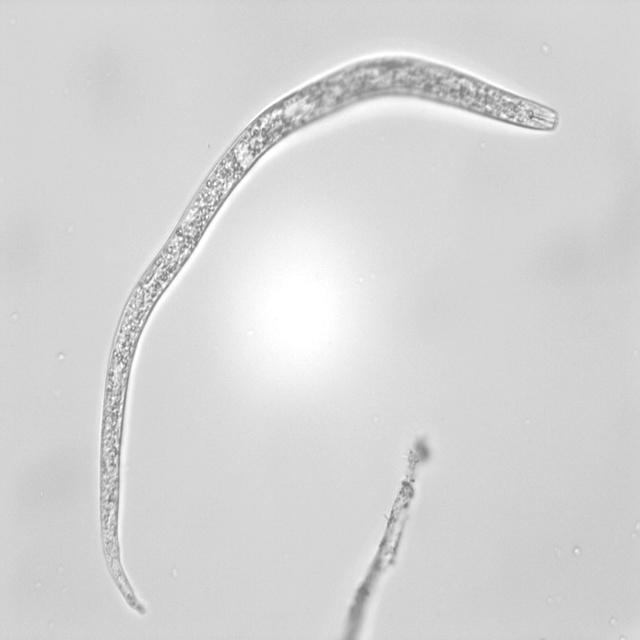Radopholus: (89, 48, 559, 616)
